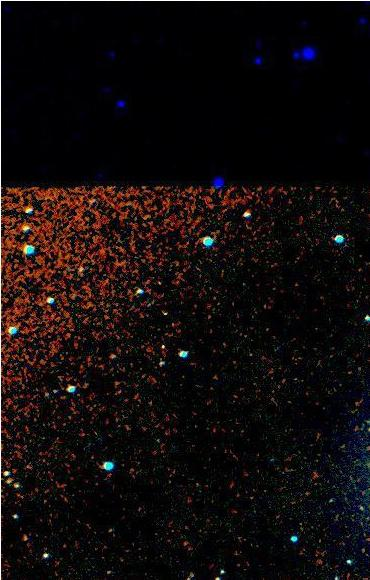star: (146, 332, 176, 362)
